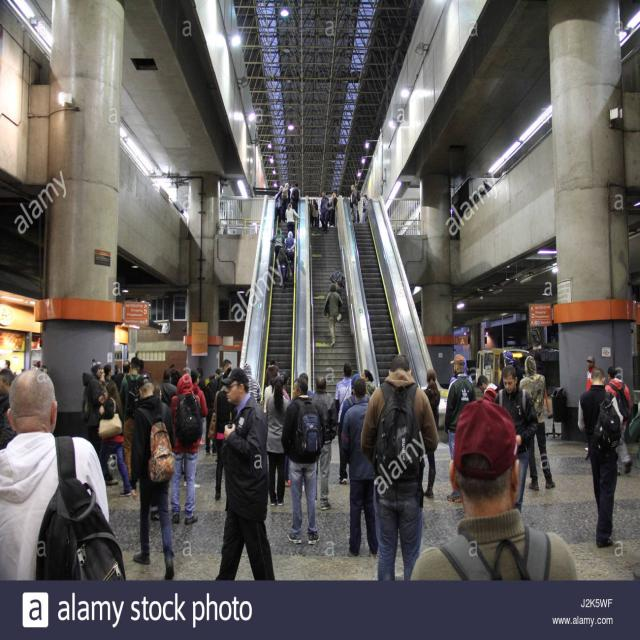body: (409, 396, 579, 581), (0, 368, 127, 581), (360, 353, 440, 582), (214, 366, 276, 581), (129, 372, 176, 580), (576, 366, 624, 550), (280, 376, 323, 546), (340, 377, 379, 559), (492, 363, 538, 515), (440, 351, 478, 505), (168, 371, 204, 526), (517, 354, 557, 492), (446, 354, 474, 502), (97, 379, 132, 496), (308, 376, 338, 512), (207, 366, 234, 502), (263, 374, 290, 508), (119, 356, 145, 482), (604, 366, 632, 476), (80, 358, 106, 458), (334, 362, 354, 486), (423, 368, 441, 498), (339, 373, 371, 425), (0, 368, 18, 450), (322, 281, 344, 348), (202, 374, 218, 456), (498, 350, 524, 390), (118, 359, 132, 432), (628, 393, 640, 468), (190, 369, 208, 417), (290, 372, 315, 404), (242, 362, 262, 402), (158, 368, 178, 408), (268, 227, 286, 270), (282, 230, 297, 277), (213, 358, 232, 394), (275, 182, 291, 224), (476, 374, 499, 402), (278, 248, 292, 294), (13, 360, 50, 376), (329, 266, 347, 298), (284, 202, 300, 238), (177, 366, 195, 397), (348, 183, 361, 225), (109, 361, 126, 393), (264, 359, 281, 389), (319, 190, 330, 234), (263, 378, 276, 414), (585, 354, 597, 392), (361, 368, 376, 396), (278, 371, 291, 402), (190, 365, 205, 391), (137, 359, 153, 383), (532, 352, 546, 379), (290, 182, 301, 214), (148, 495, 161, 522), (329, 191, 338, 229), (168, 362, 181, 388), (196, 365, 208, 393), (360, 193, 369, 226), (274, 187, 282, 223), (213, 368, 222, 396), (278, 184, 284, 223), (311, 198, 318, 228), (103, 363, 113, 383), (222, 210, 230, 235), (152, 384, 162, 401), (314, 200, 320, 228), (495, 356, 504, 372), (99, 366, 107, 383), (327, 199, 331, 226), (289, 184, 295, 200), (2, 359, 11, 369), (355, 209, 360, 225), (306, 198, 312, 210), (350, 209, 354, 225), (401, 354, 407, 358)
